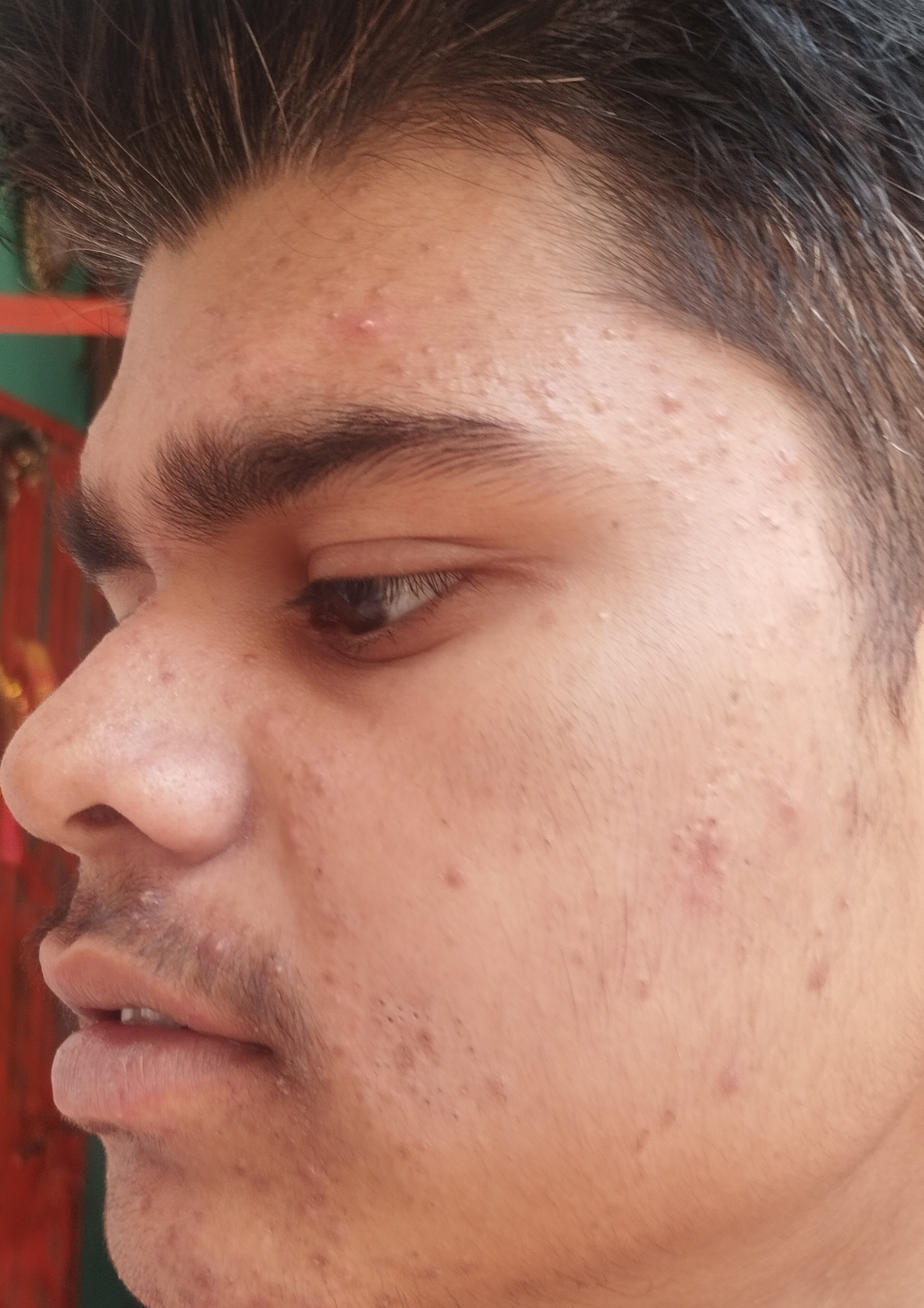closed_comedone: (585, 308, 650, 366), (745, 498, 797, 552), (529, 377, 574, 435)
papule: (671, 815, 740, 923), (412, 845, 494, 910), (177, 918, 253, 979), (376, 1013, 430, 1095), (100, 867, 169, 931), (279, 744, 330, 819), (790, 947, 853, 1003), (246, 694, 302, 754), (352, 297, 402, 362), (762, 767, 803, 843), (708, 1061, 777, 1104), (658, 381, 689, 437)
